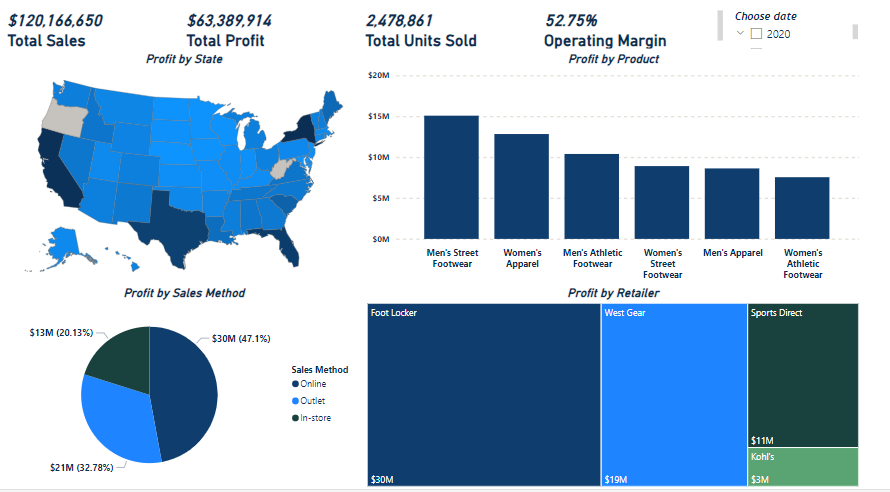

Layout of this report page (visuals, bound fields, positions):
{"tool":"powerbi","page":{"name":"sales_dashboard","canvas":[1280,720],"ordinal":0},"visuals":[{"type":"shapeMap","fields":{"Category":["Dim Region.Regions Hierarchy.State"],"Value":["Fact Sales.Profit"]},"box":[0,67.1,536.6,348.8],"z":0},{"type":"pieChart","fields":{"Category":["Dim Sales Method.Sales Method"],"Y":["Fact Sales.Profit"]},"box":[0,416,537,304],"z":1000},{"type":"slicer","fields":{"Values":["Date.Dates Hierarchy.Year","Date.Dates Hierarchy.Quarter","Date.Dates Hierarchy.Month","Date.Dates Hierarchy.Date"]},"box":[1078,0,202.4,67.1],"z":2000},{"type":"multiRowCard","fields":{"Values":["Fact Sales.Total Sales","Fact Sales.Profit","Sum(Fact Sales.Units Sold)","Fact Sales.Operating Margin"]},"box":[0,0,1078,67.1],"z":3000},{"type":"treemap","title":"Profit by Retailer ","fields":{"Group":["Dim Retailer.Retailer Name"],"Values":["Fact Sales.Profit"]},"box":[537,416,743,304],"z":4000},{"type":"columnChart","title":"Profit by Product ","fields":{"Y":["Fact Sales.Profit"],"Category":["Dim Product.Product Category"]},"box":[536.6,67.1,743.9,348.8],"z":5000}]}

Visuals, with their boxes in screenshot pixels (x1, y1, x2, y2), scaled from the page's 1280x720 canvas onto the 890x492 screenshot:
shapeMap - Dim Region.Regions Hierarchy.State x Fact Sales.Profit: <box>0,46,373,284</box>
pieChart - Dim Sales Method.Sales Method x Fact Sales.Profit: <box>0,284,373,491</box>
slicer - Date.Dates Hierarchy.Year x Date.Dates Hierarchy.Quarter: <box>750,0,889,46</box>
multiRowCard - Fact Sales.Total Sales x Fact Sales.Profit: <box>0,0,750,46</box>
"Profit by Retailer " treemap: <box>373,284,889,491</box>
"Profit by Product " columnChart: <box>373,46,889,284</box>
